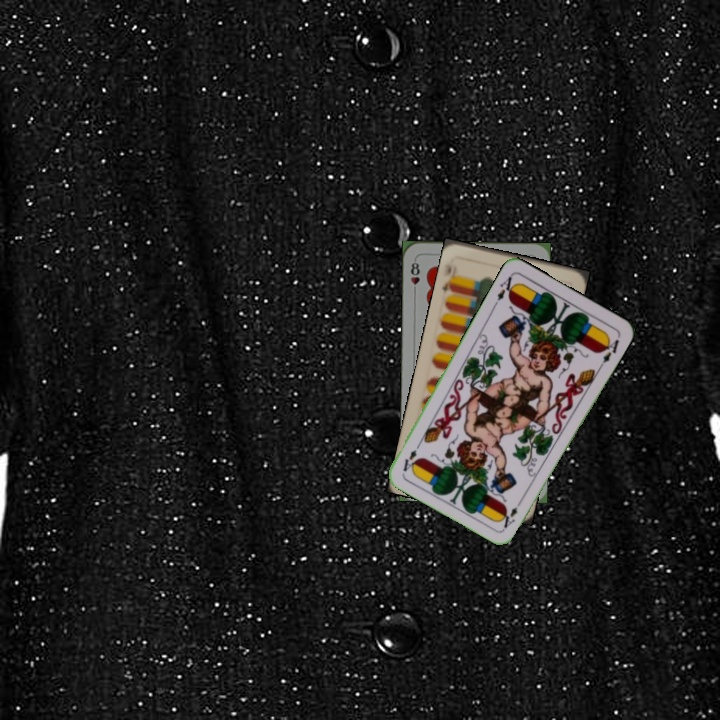E10: (438, 255, 460, 295)
EA: (499, 494, 526, 531), (493, 271, 519, 303)
H8: (407, 256, 422, 296)
